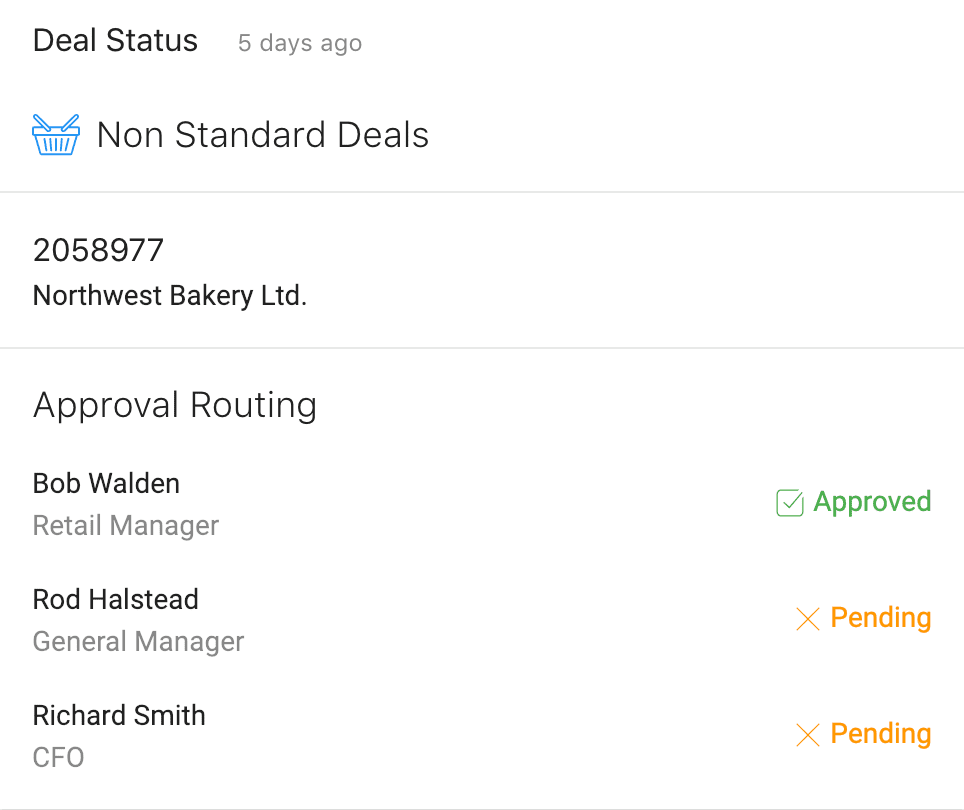image: (24, 111, 87, 158), (768, 483, 809, 524), (787, 713, 827, 755), (790, 596, 825, 642)
textbox: (25, 17, 370, 64), (92, 114, 442, 159), (28, 382, 328, 431), (28, 274, 312, 320), (23, 503, 232, 546), (25, 623, 251, 661), (27, 696, 218, 735), (24, 580, 216, 615), (25, 464, 201, 498), (30, 227, 172, 267), (814, 483, 941, 521), (830, 597, 938, 640), (830, 715, 944, 755), (27, 740, 100, 775)
